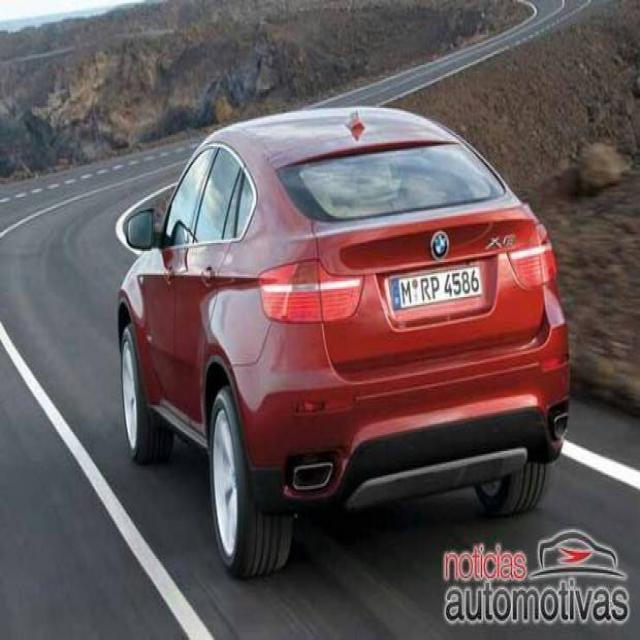car: (116, 101, 580, 576)
